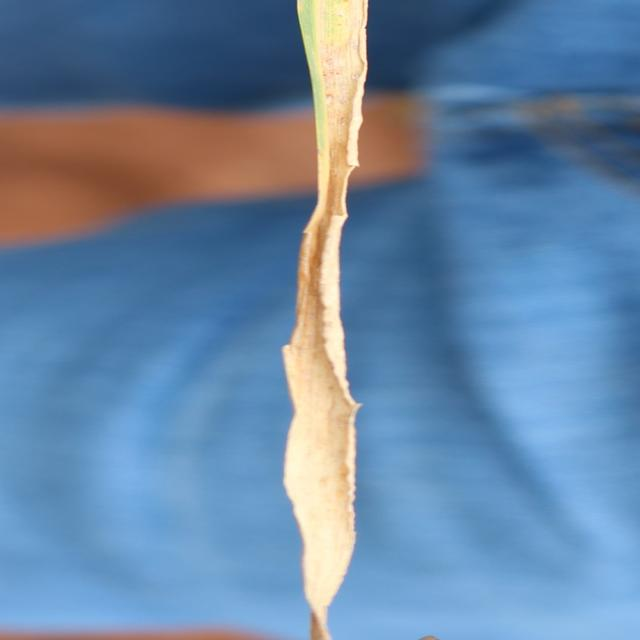Septoria: (279, 1, 370, 639)
